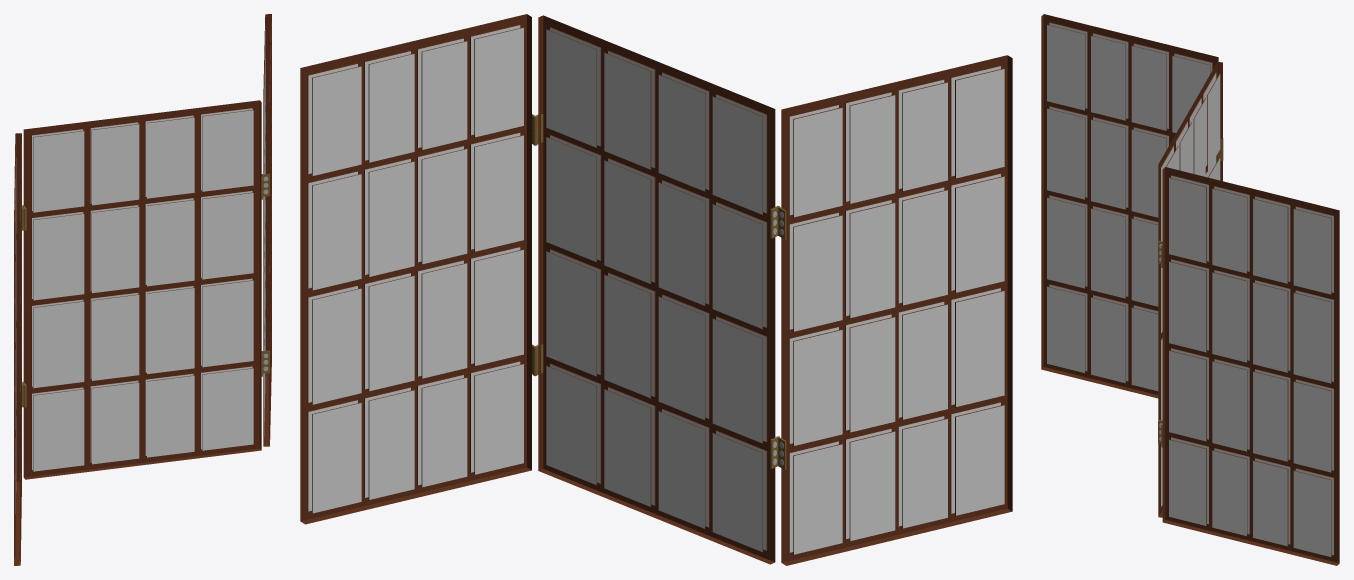
File: Screen Assessment.fbx
The picture shows the model from 3 angles, left to right: view 1: azimuth 30°, elevation 25°; view 2: azimuth 150°, elevation 25°; view 3: azimuth 270°, elevation 25°; orthographic projection. The views are drawn at different scales.
Visible parts, largest first — view 1: Screen; view 2: Screen; view 3: Screen.
Boxes of the visible parts, left/top/right/bottom form: Screen: left=14, top=14, right=271, bottom=565; Screen: left=300, top=14, right=1012, bottom=565; Screen: left=1041, top=14, right=1339, bottom=565.
Bounding box in the file's own units: 125 × 104 × 79.39.
